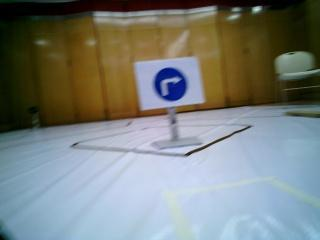right: (136, 58, 203, 101)
